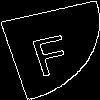F: (25, 25, 75, 77)
